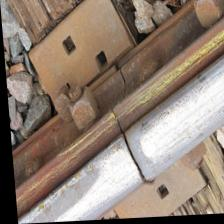person: (93, 125, 170, 193), (92, 51, 154, 122)
